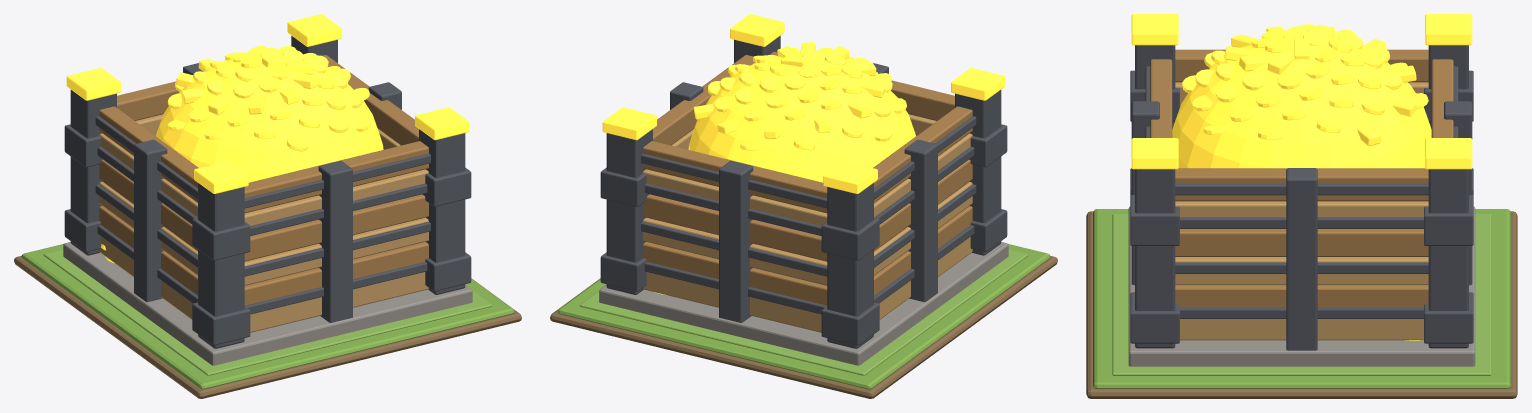
File: gold_storage_lv3.glb
3 views of the same model, side by side, from view 1: azimuth 30°, elevation 25°; view 2: azimuth 150°, elevation 25°; view 3: azimuth 270°, elevation 25° (orthographic). The views are drawn at different scales.
Visible parts, largest first — view 1: GoldMoundBase, Platform, Base_Grass, Base_Dirt, Base_Inner, MidButtressFB_-1, Post_-1_-1, MidButtressLR_-1, Post_1_-1, FrontBackPlank_3_2, FrontBackPlank_5_2, FrontBackPlank_1_2 (+32 smaller); view 2: GoldMoundBase, Platform, Base_Grass, Base_Dirt, Base_Inner, MidButtressFB_1, Post_-1_1, MidButtressLR_-1, Post_1_1, FrontBackPlank_3_1, FrontBackPlank_5_1, FrontBackPlank_1_1 (+32 smaller); view 3: GoldMoundBase, Base_Grass, Platform, Base_Inner, Base_Dirt, SidePlank_3_1, MidButtressLR_1, SidePlank_1_1, SidePlank_5_1, Post_1_1, Post_1_-1, SidePlank_0_1 (+24 smaller).
Boxes of the visible parts, box(x1,y1,x2,y2) form: GoldMoundBase: box(156, 54, 383, 182); Platform: box(63, 242, 472, 365); Base_Grass: box(21, 244, 514, 389); Base_Dirt: box(14, 256, 521, 398); Base_Inner: box(43, 249, 492, 375); MidButtressFB_-1: box(318, 160, 352, 322); Post_-1_-1: box(198, 183, 244, 348); MidButtressLR_-1: box(134, 139, 167, 302); Post_1_-1: box(419, 129, 465, 294); FrontBackPlank_3_2: box(244, 194, 428, 261); FrontBackPlank_5_2: box(244, 141, 428, 213); FrontBackPlank_1_2: box(244, 242, 428, 305); GoldMoundBase: box(688, 53, 915, 182); Platform: box(599, 242, 1008, 365); Base_Grass: box(557, 244, 1050, 389); Base_Dirt: box(550, 256, 1057, 398); Base_Inner: box(579, 249, 1028, 375); MidButtressFB_1: box(719, 160, 753, 322); Post_-1_1: box(827, 183, 873, 348); MidButtressLR_-1: box(904, 139, 937, 302); Post_1_1: box(606, 129, 652, 294); FrontBackPlank_3_1: box(643, 194, 827, 261); FrontBackPlank_5_1: box(643, 141, 827, 213); FrontBackPlank_1_1: box(643, 242, 827, 305); GoldMoundBase: box(1172, 35, 1431, 168); Base_Grass: box(1093, 209, 1510, 388); Platform: box(1128, 206, 1475, 366); Base_Inner: box(1112, 214, 1491, 375); Base_Dirt: box(1086, 211, 1517, 398); SidePlank_3_1: box(1175, 229, 1428, 256); MidButtressLR_1: box(1286, 168, 1317, 350); SidePlank_1_1: box(1175, 284, 1428, 307); SidePlank_5_1: box(1175, 168, 1428, 201); Post_1_1: box(1428, 169, 1468, 348); Post_1_-1: box(1135, 169, 1175, 348); SidePlank_0_1: box(1180, 319, 1423, 340).
Size of the model in its own units: 2.76 by 1.91 by 2.76.
